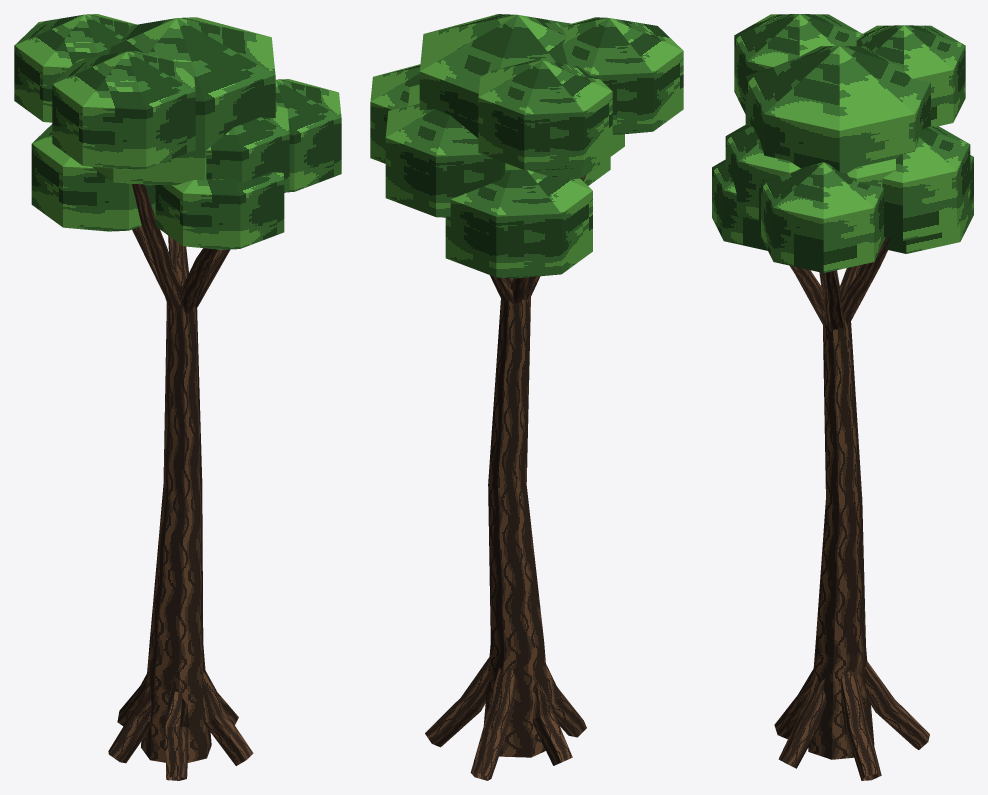
File: FLO-16_Arbol_mayor.gltf
3 views of the same model, side by side, from view 1: azimuth 30°, elevation 25°; view 2: azimuth 150°, elevation 25°; view 3: azimuth 270°, elevation 25° (orthographic). The views are drawn at different scales.
Parts seen in each view (by area): view 1: FLO-16_Arbol_mayor; view 2: FLO-16_Arbol_mayor; view 3: FLO-16_Arbol_mayor.
Boxes of the visible parts, x1,y1,x2,y2 form: FLO-16_Arbol_mayor: (14,14,341,780); FLO-16_Arbol_mayor: (370,14,683,780); FLO-16_Arbol_mayor: (712,14,973,780).
Size of what is drawn, in the model's own units: 8.55 by 21.24 by 7.14.
Materials: 1 (1 with a texture image).
